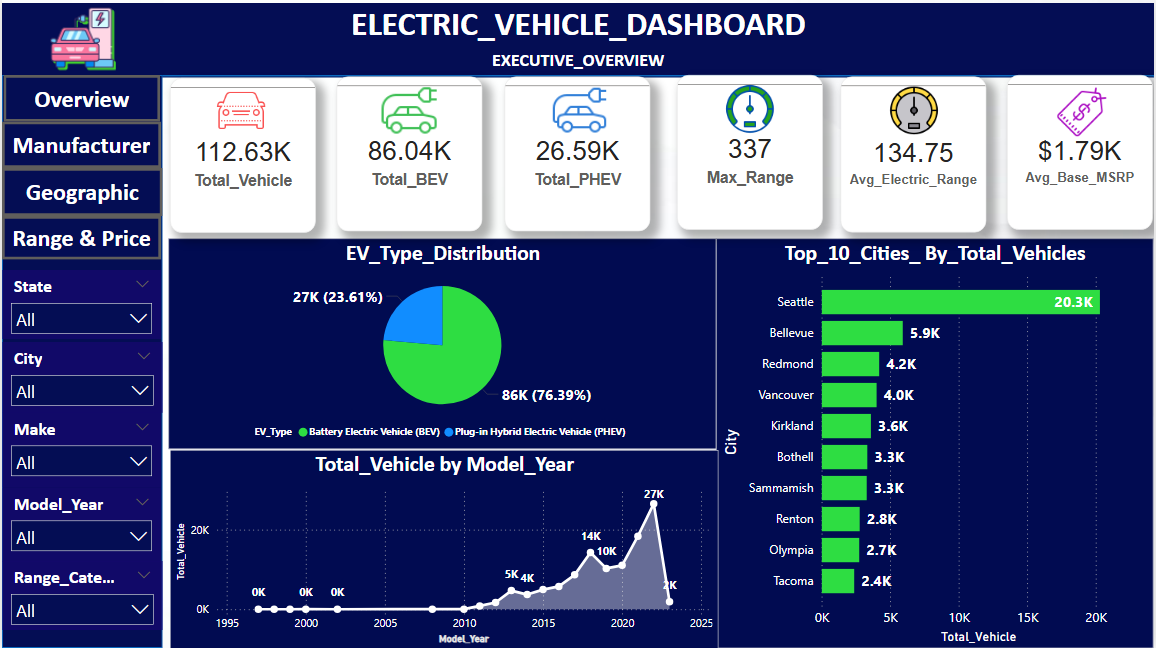

The dashboard page shown, as its layout file describes it:
{"tool":"powerbi","page":{"name":"Overview","canvas":[1280,720],"ordinal":0},"visuals":[{"type":"shape","title":"ELECTRIC_VEHICLE_DASHBOARD","box":[0,3.2,1280.4,82.7],"z":0},{"type":"shape","box":[0,83.3,178.3,636.7],"z":1000},{"type":"actionButton","box":[0,186.7,178.3,53.3],"z":2000},{"type":"actionButton","box":[2,84,174,52],"z":3000},{"type":"actionButton","box":[0,240,176.7,48.3],"z":4000},{"type":"actionButton","box":[0,135,176.7,51.7],"z":5000},{"type":"slicer","fields":{"Values":["Electric_Vehicle.Make"]},"box":[0,458.3,176.7,83.3],"z":6000},{"type":"slicer","fields":{"Values":["Electric_Vehicle.Model_Year"]},"box":[0,541.7,176.7,81.7],"z":7000},{"type":"slicer","fields":{"Values":["Electric_Vehicle.City"]},"box":[0,380,178.3,78.3],"z":8000},{"type":"slicer","fields":{"Values":["Electric_Vehicle.State"]},"box":[0,300,176.7,76.7],"z":9000},{"type":"slicer","fields":{"Values":["Electric_Vehicle.Range_Category"]},"box":[0,623.3,178.3,76.7],"z":10000},{"type":"pieChart","title":"EV_Type_Distribution","fields":{"Category":["Electric_Vehicle.Electric_Vehicle_Type"],"Y":["NEW_MEASURES.Total_Vehicle"]},"box":[185.2,264.6,608.5,234.3],"z":11000},{"type":"clusteredBarChart","title":"Top_10_Cities_ By_Total_Vehicles","fields":{"Y":["NEW_MEASURES.Total_Vehicle"],"Category":["Electric_Vehicle.City"]},"box":[793.7,264.6,485.7,455.4],"z":12000},{"type":"card","fields":{"Values":["NEW_MEASURES.Total_Vehicle"]},"box":[186.1,85.9,162.2,171.8],"z":13000},{"type":"card","fields":{"Values":["NEW_MEASURES.Total_BEV"]},"box":[372.2,84.3,162.2,171.8],"z":14000},{"type":"card","fields":{"Values":["NEW_MEASURES.Total_PHEV"]},"box":[558.3,84.3,162.2,171.8],"z":15000},{"type":"card","fields":{"Values":["NEW_MEASURES.Avg_Electric_Range"]},"box":[932.1,84.3,162,173.4],"z":16000},{"type":"card","fields":{"Values":["NEW_MEASURES.Max_Range"]},"box":[750.8,82.7,162.2,171.8],"z":17000},{"type":"card","fields":{"Values":["NEW_MEASURES.Avg_Base_MSRP"]},"box":[1116.6,82.7,162,171.8],"z":18000},{"type":"lineChart","fields":{"Y":["NEW_MEASURES.Total_Vehicle"],"Category":["Electric_Vehicle.Model_Year"]},"box":[186.1,499.5,609.2,221.1],"z":19000},{"type":"image","box":[1.6,0,176.6,85.9],"z":20000},{"type":"image","box":[229,85.9,74.8,71.6],"z":21000},{"type":"image","box":[606,73.2,70,98.6],"z":22000},{"type":"image","box":[415.1,85.9,74.8,71.6],"z":23000},{"type":"image","box":[1164.3,85.9,66.8,77.9],"z":24000},{"type":"image","box":[979.8,90.7,66.8,65.2],"z":25000},{"type":"image","box":[798.5,89.1,65.2,65.2],"z":26000}]}

Visuals, with their boxes in screenshot pixels (x1, y1, x2, y2), scaled from the page's 1280x720 canvas onto the 1156x648 screenshot:
"ELECTRIC_VEHICLE_DASHBOARD" shape: {"x1": 0, "y1": 3, "x2": 1155, "y2": 77}
shape: {"x1": 0, "y1": 75, "x2": 161, "y2": 647}
actionButton: {"x1": 0, "y1": 168, "x2": 161, "y2": 216}
actionButton: {"x1": 2, "y1": 76, "x2": 159, "y2": 122}
actionButton: {"x1": 0, "y1": 216, "x2": 160, "y2": 259}
actionButton: {"x1": 0, "y1": 122, "x2": 160, "y2": 168}
slicer - Electric_Vehicle.Make: {"x1": 0, "y1": 412, "x2": 160, "y2": 487}
slicer - Electric_Vehicle.Model_Year: {"x1": 0, "y1": 488, "x2": 160, "y2": 561}
slicer - Electric_Vehicle.City: {"x1": 0, "y1": 342, "x2": 161, "y2": 412}
slicer - Electric_Vehicle.State: {"x1": 0, "y1": 270, "x2": 160, "y2": 339}
slicer - Electric_Vehicle.Range_Category: {"x1": 0, "y1": 561, "x2": 161, "y2": 630}
"EV_Type_Distribution" pieChart: {"x1": 167, "y1": 238, "x2": 717, "y2": 449}
"Top_10_Cities_ By_Total_Vehicles" clusteredBarChart: {"x1": 717, "y1": 238, "x2": 1155, "y2": 647}
card - NEW_MEASURES.Total_Vehicle: {"x1": 168, "y1": 77, "x2": 315, "y2": 232}
card - NEW_MEASURES.Total_BEV: {"x1": 336, "y1": 76, "x2": 483, "y2": 230}
card - NEW_MEASURES.Total_PHEV: {"x1": 504, "y1": 76, "x2": 651, "y2": 230}
card - NEW_MEASURES.Avg_Electric_Range: {"x1": 842, "y1": 76, "x2": 988, "y2": 232}
card - NEW_MEASURES.Max_Range: {"x1": 678, "y1": 74, "x2": 825, "y2": 229}
card - NEW_MEASURES.Avg_Base_MSRP: {"x1": 1008, "y1": 74, "x2": 1155, "y2": 229}
lineChart - NEW_MEASURES.Total_Vehicle x Electric_Vehicle.Model_Year: {"x1": 168, "y1": 450, "x2": 718, "y2": 647}
image: {"x1": 1, "y1": 0, "x2": 161, "y2": 77}
image: {"x1": 207, "y1": 77, "x2": 274, "y2": 142}
image: {"x1": 547, "y1": 66, "x2": 611, "y2": 155}
image: {"x1": 375, "y1": 77, "x2": 442, "y2": 142}
image: {"x1": 1052, "y1": 77, "x2": 1112, "y2": 147}
image: {"x1": 885, "y1": 82, "x2": 945, "y2": 140}
image: {"x1": 721, "y1": 80, "x2": 780, "y2": 139}
